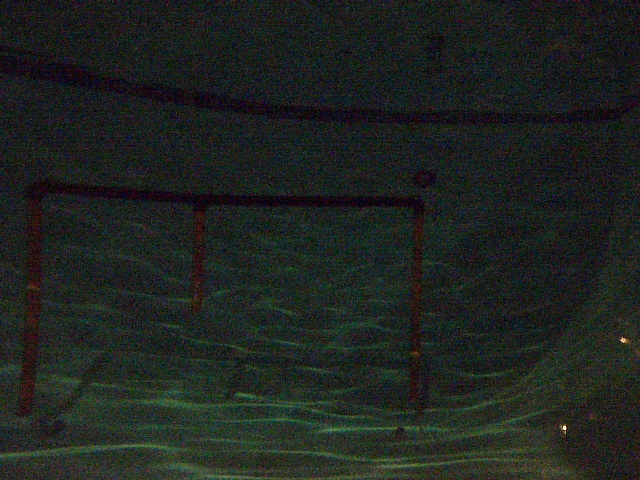Gate: (10, 195, 45, 417), (405, 208, 423, 416), (189, 203, 207, 314)
